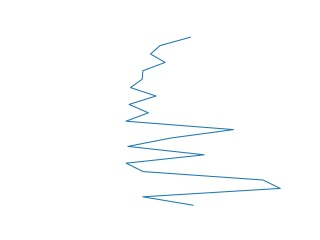crevasseRiverBedLagDeposit: (120, 33, 285, 211)
